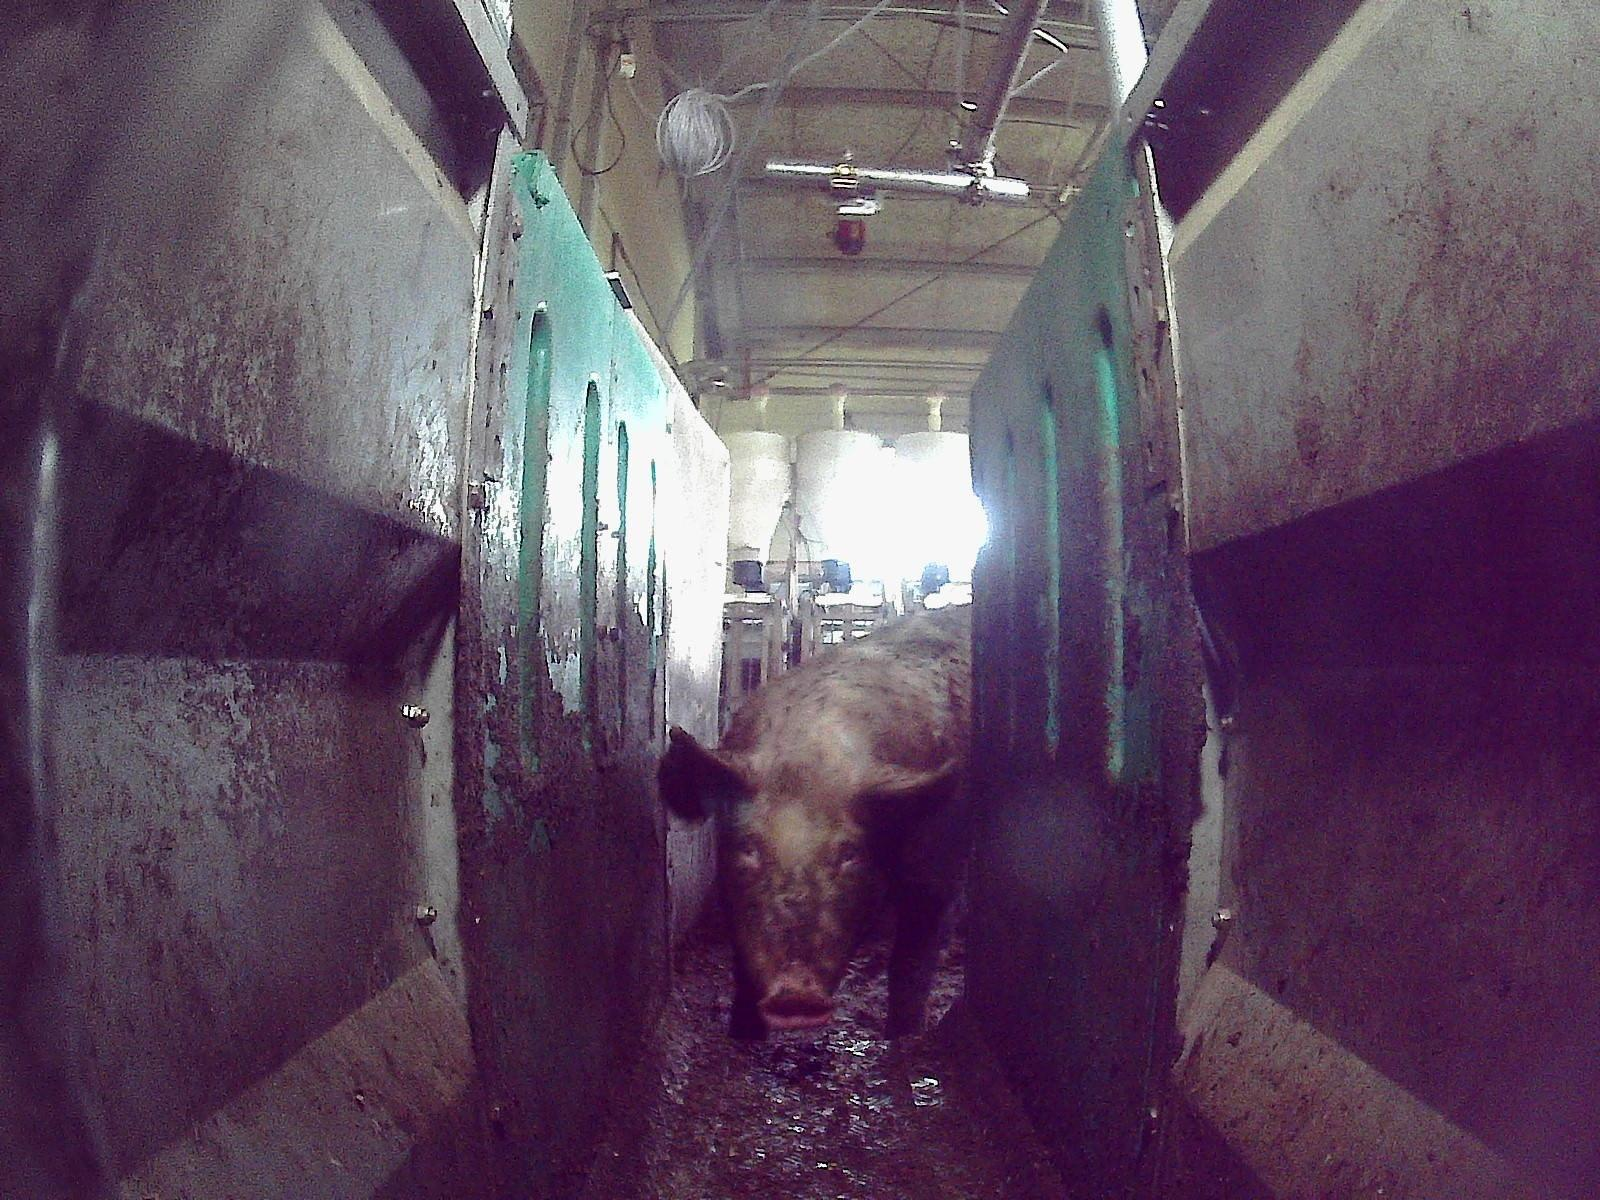Face: (715, 783, 874, 1028)
